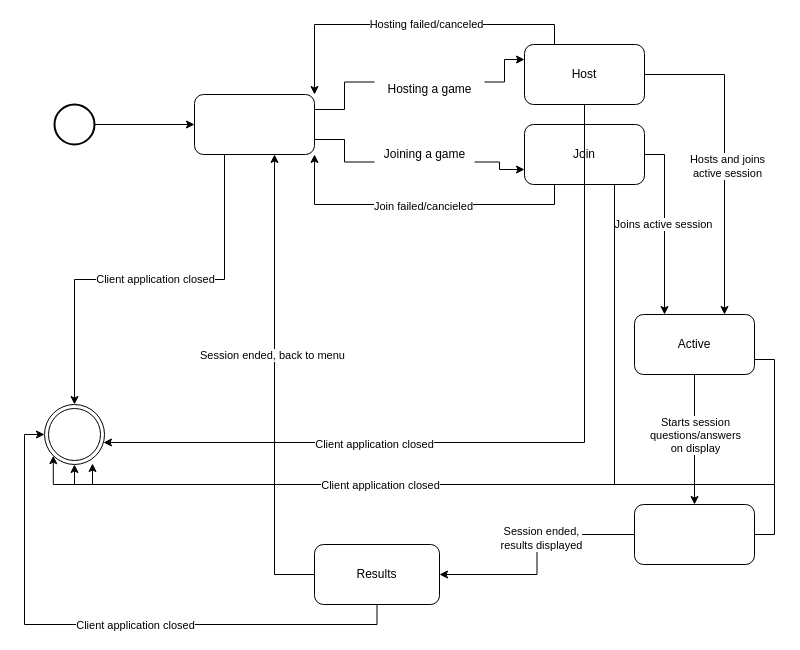
This 800x650 diagram has some shape labels left out. The shapes that lost their labels are listed below. From the top down, each one's centre as x and y in pixels, then its label:
At [254,124]: "Menu".
At [694,534]: "Quiz session".
